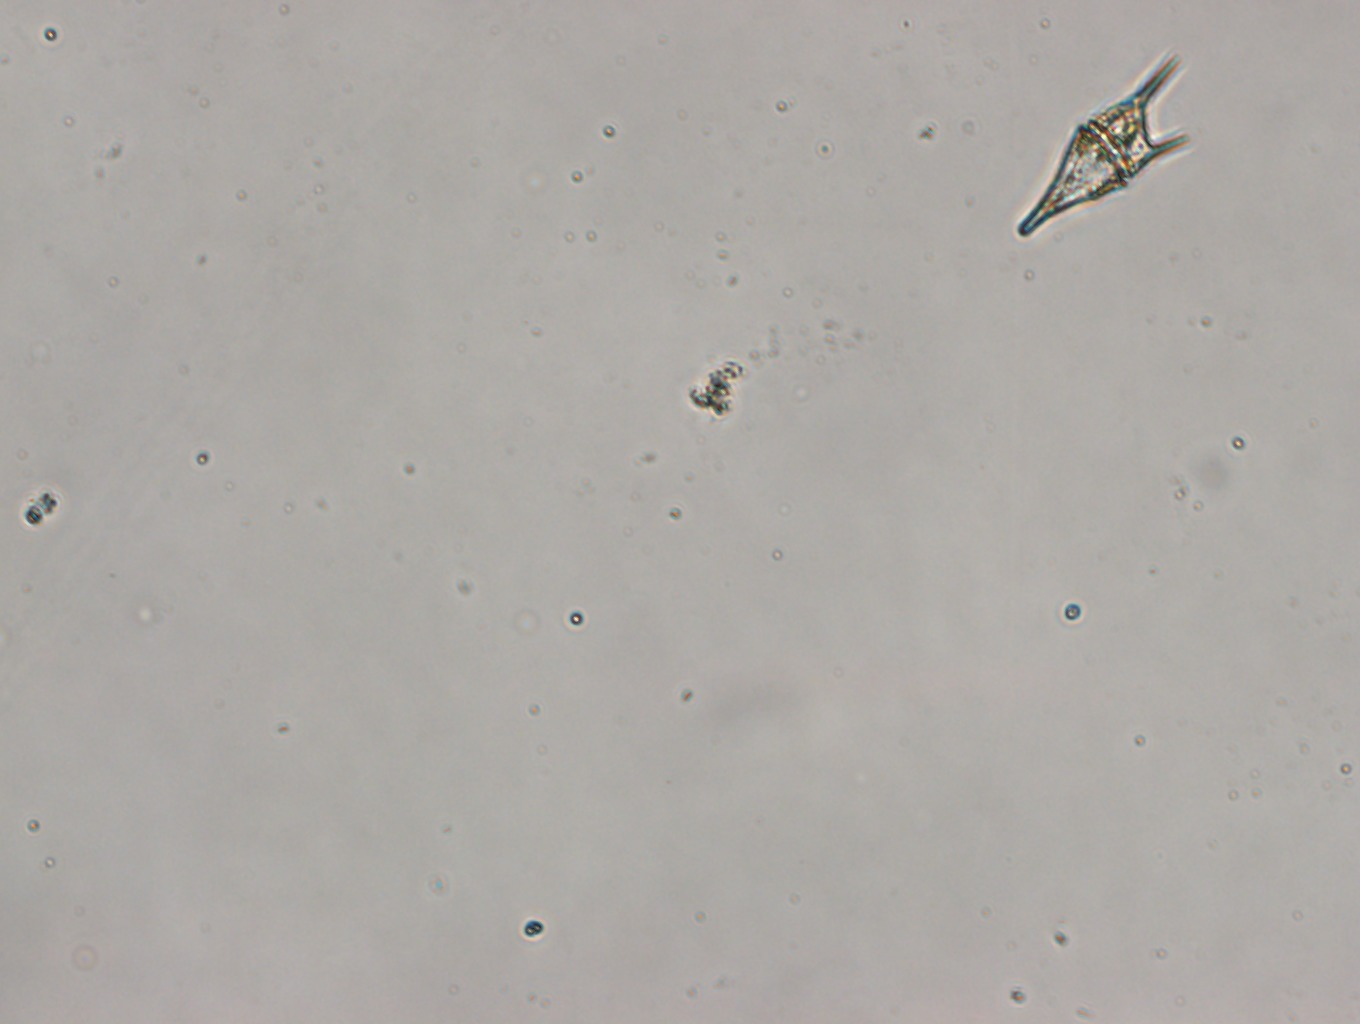ceratium furca: (1015, 49, 1192, 234)
